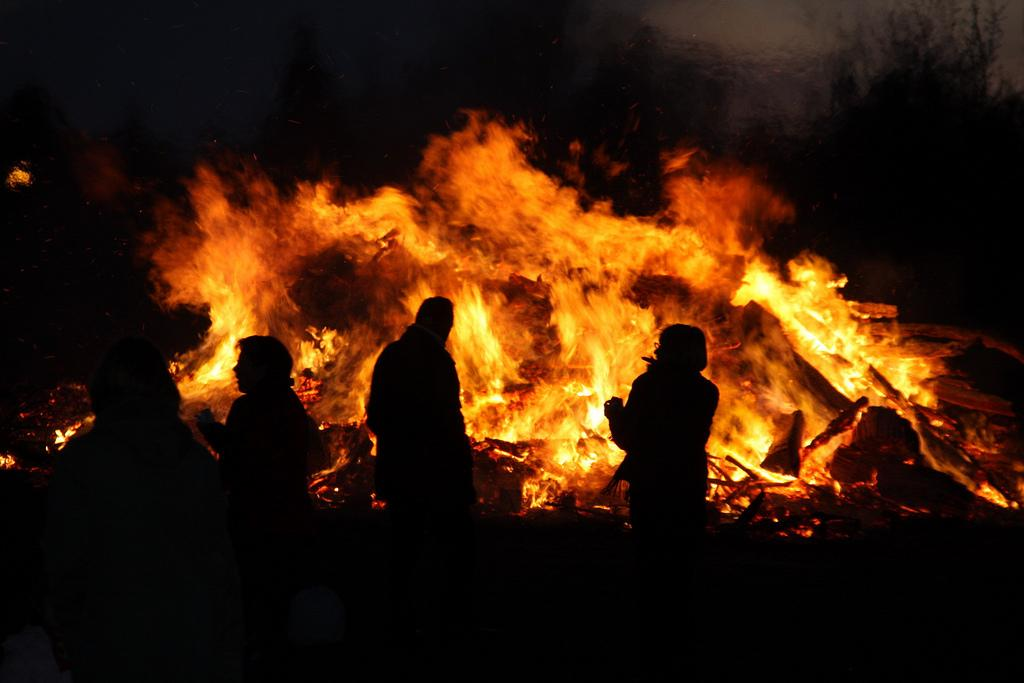fire: (213, 195, 595, 278), (732, 255, 895, 417), (462, 295, 540, 470), (567, 305, 625, 472), (178, 293, 257, 388)
